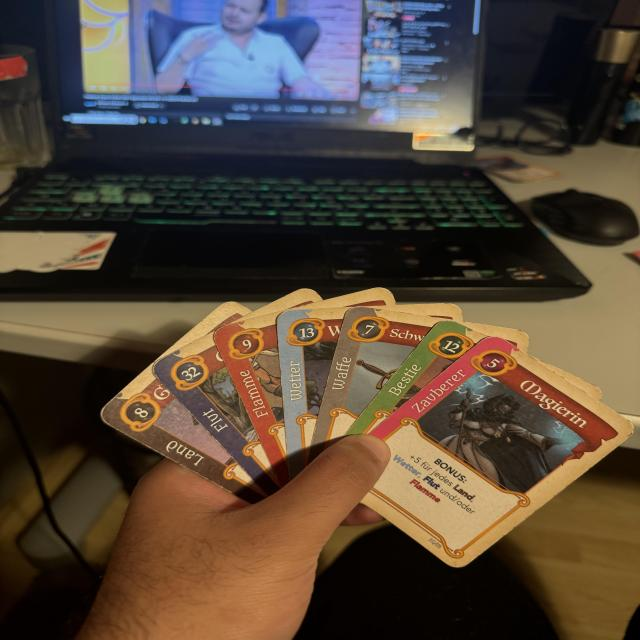Clock Tower: (95, 369, 270, 506)
Elemental Enchantress: (363, 333, 640, 573)
Forge: (211, 312, 291, 490)
Great Flood: (144, 333, 281, 498)
Hydra: (343, 319, 489, 435)
Sword of Keth: (305, 305, 443, 465)
Whirlwind: (276, 305, 347, 479)
